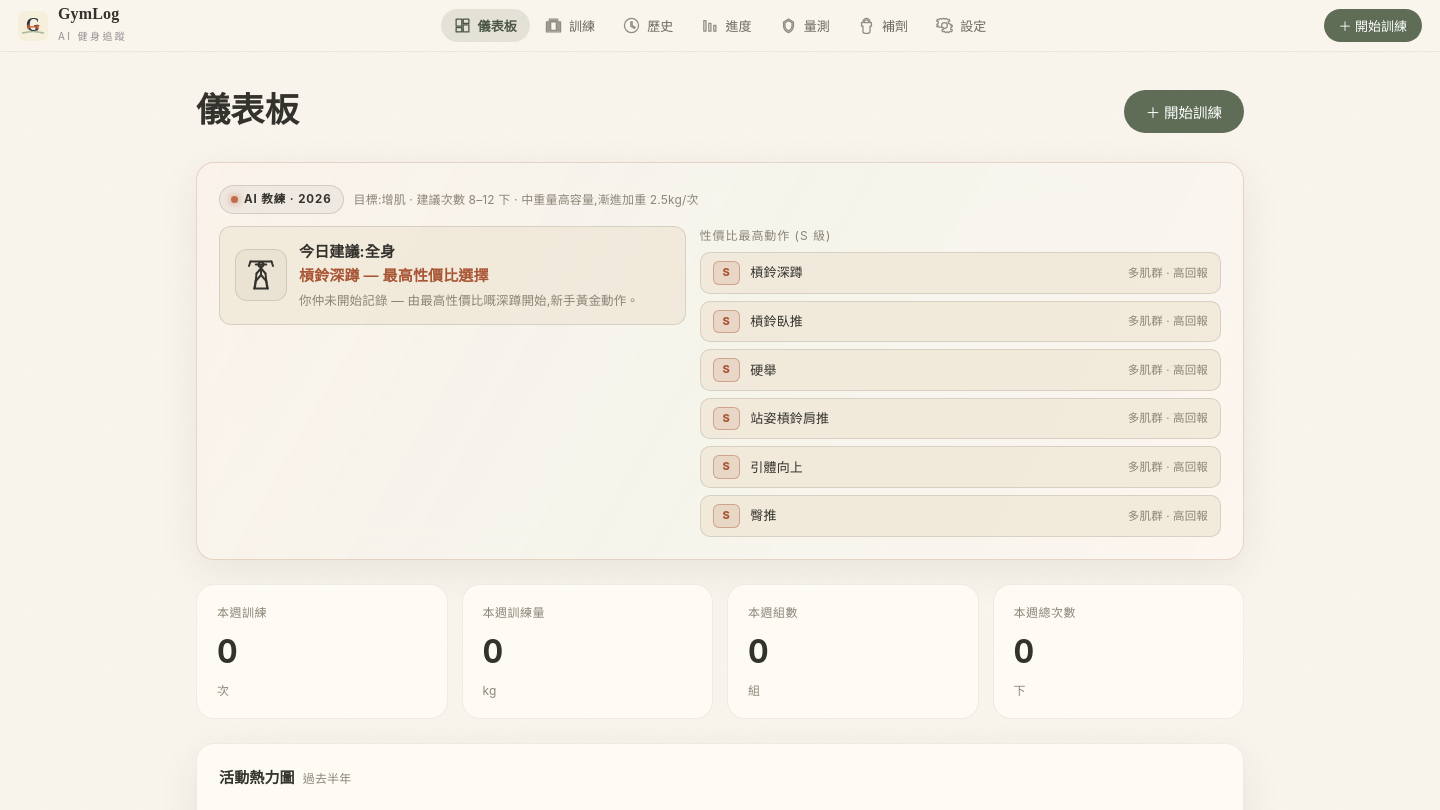
Test: GymLog 完整流程 › 量測紀錄
Click the button "量測" at [805, 26], box [767,9,843,42]
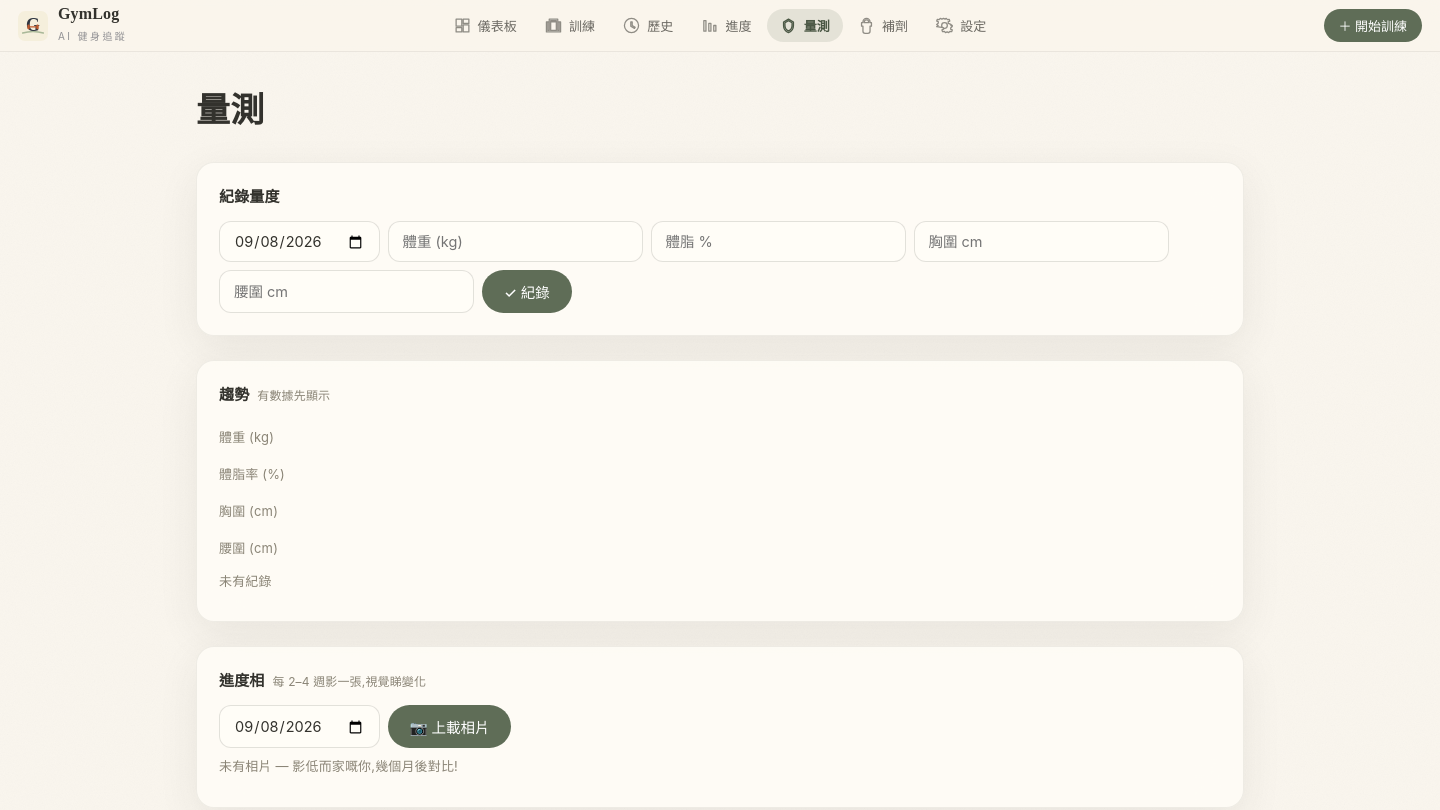
Type "75.5" into the field with placeholder "體重 (kg)" at [515, 242], box [388,221,642,262]
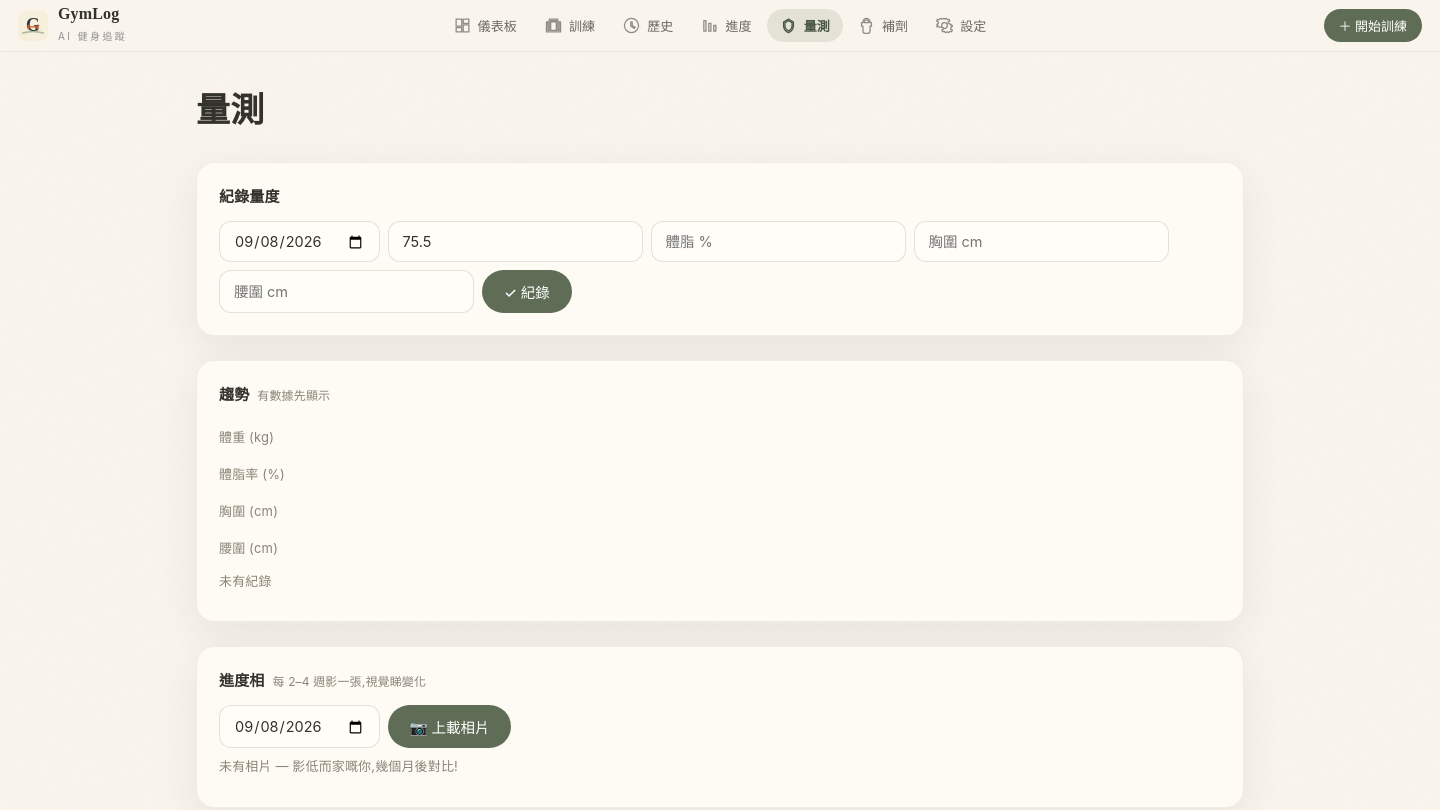
Click the button "✓ 紀錄" at [527, 292], box [482,270,572,313]
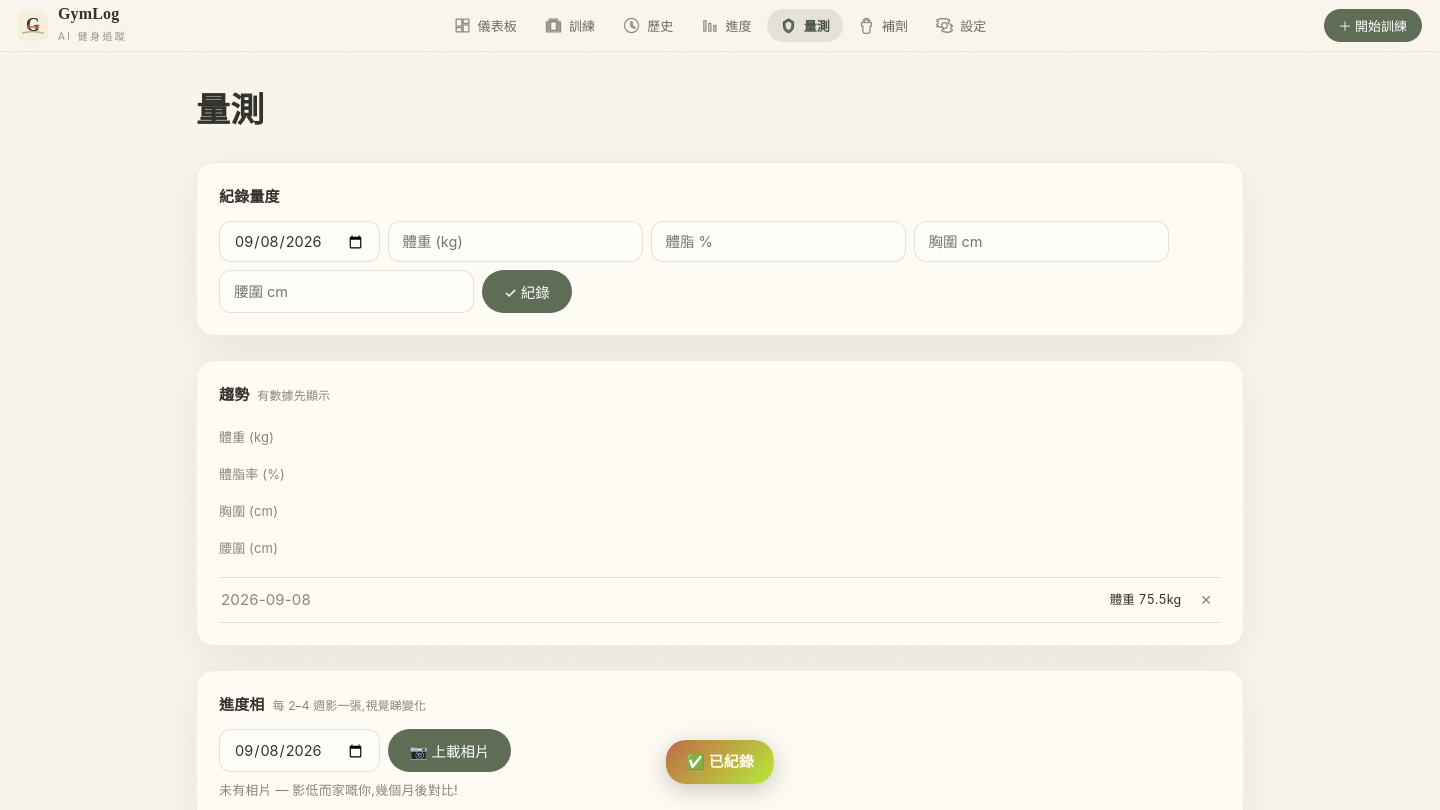
Expected: the text "體重 75.5kg" is shown, [1110,590,1181,610]
